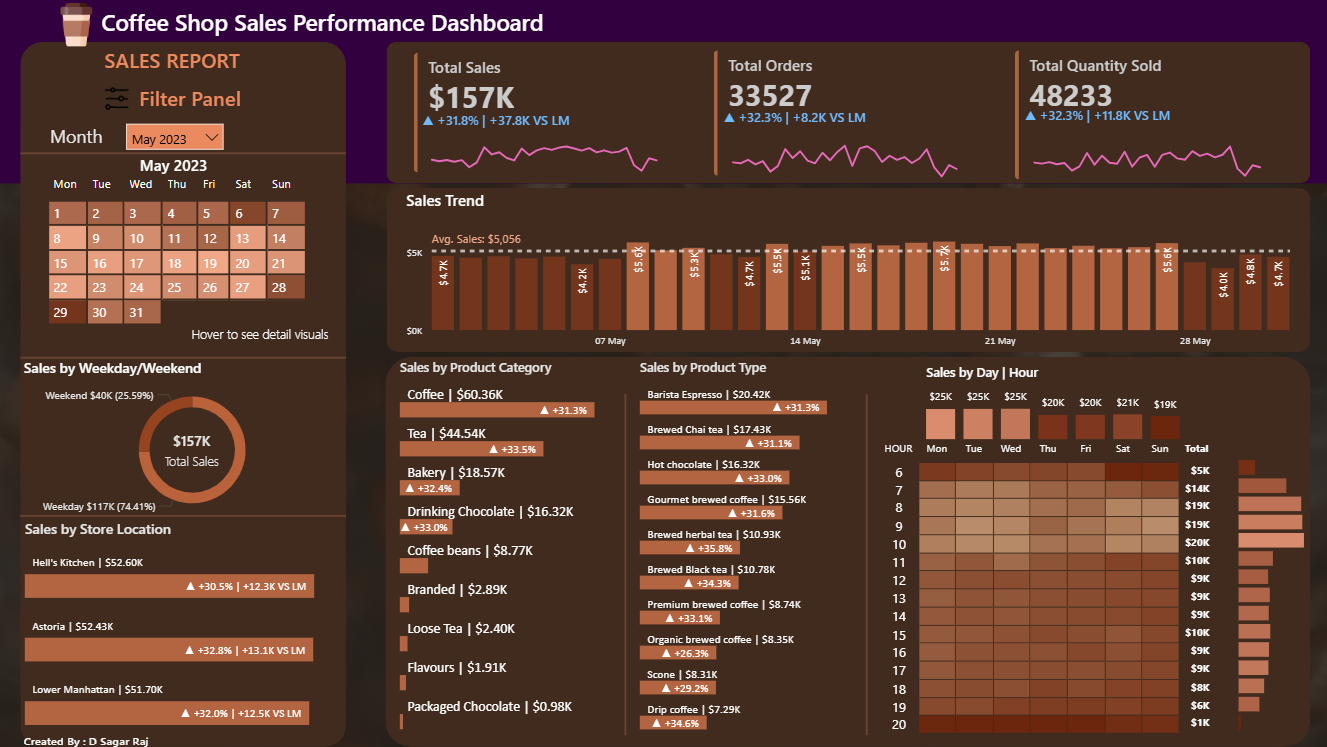

What the dashboard file says about the page in this screenshot:
{"tool":"powerbi","page":{"name":"Page 1","canvas":[1400,850],"ordinal":0},"visuals":[{"type":"shape","box":[0,27.5,1400,193.8],"z":0},{"type":"shape","box":[22.5,72.5,342.5,742.5],"z":1000},{"type":"shape","box":[407.5,72.5,971.2,148.8],"z":2000},{"type":"slicer","fields":{"Values":["Date table.Month Year"]},"box":[128.8,153.8,112.5,36.2],"z":3000},{"type":"group","id":"g1","title":"Group 1","box":[418.8,66.5,288.8,161.1],"z":4000},{"type":"cardVisual","fields":{"Data":["Transactions.Total qty. Sold"]},"box":[1051.5,63.8,288.5,170.7],"z":5000,"group":"g3"},{"type":"group","id":"g2","title":"Group 1","box":[734.7,64,289.6,166.1],"z":5000},{"type":"cardVisual","fields":{"Data":["Transactions.Total Orders"]},"box":[734.7,64,289.6,166.1],"z":5000,"group":"g2"},{"type":"cardVisual","fields":{"Data":["Transactions.Total Sales"]},"box":[418.8,66.5,288.8,160],"z":5000,"group":"g1"},{"type":"group","id":"g3","title":"Group 1","box":[1051.5,63.8,290.2,170.7],"z":6000},{"type":"lineChart","fields":{"Category":["Date table.Date.Variation.Date Hierarchy.Year","Date table.Date.Variation.Date Hierarchy.Quarter","Date table.Date.Variation.Date Hierarchy.Month","Date table.Date.Variation.Date Hierarchy.Day"],"Y":["Transactions.Total Quantity Sold"]},"box":[1074.3,139.9,267.4,82.6],"z":6000,"group":"g3"},{"type":"lineChart","fields":{"Category":["Date table.Date.Variation.Date Hierarchy.Year","Date table.Date.Variation.Date Hierarchy.Quarter","Date table.Date.Variation.Date Hierarchy.Month","Date table.Date.Variation.Date Hierarchy.Day"],"Y":["Transactions.Total Orders"]},"box":[757.2,141.5,265,78.8],"z":6000,"group":"g2"},{"type":"lineChart","fields":{"Y":["Transactions.Total Sales"],"Category":["Date table.Date.Variation.Date Hierarchy.Year","Date table.Date.Variation.Date Hierarchy.Quarter","Date table.Date.Variation.Date Hierarchy.Month","Date table.Date.Variation.Date Hierarchy.Day"]},"box":[440,144.9,266.3,82.6],"z":6000,"group":"g1"},{"type":"pivotTable","fields":{"Rows":["Date table.Week number"],"Columns":["Date table.Day name"],"Values":["Min(Date table.Day Number)"]},"box":[22.5,205,325,200],"z":7000},{"type":"cardVisual","fields":{"Data":["Min(Date table.Month Year)"]},"box":[116.2,180,136.2,41.2],"z":8000},{"type":"cardVisual","fields":{"Data":["Transactions.Foot Note"]},"box":[185,357.5,185,41.2],"z":9000},{"type":"shape","box":[22.5,182.5,342.5,13.8],"z":10000},{"type":"shape","box":[22.5,398.8,342.5,12.5],"z":11000},{"type":"donutChart","title":"Sales by Weekday/Weekend","fields":{"Category":["Date table.Weekday/Weekend"],"Y":["Transactions.Total Sales"]},"box":[21.4,404.5,364.6,173.8],"z":12000},{"type":"cardVisual","fields":{"Data":["Transactions.Total Sales"]},"box":[155.2,472.9,95.4,57],"z":13000},{"type":"shape","box":[22.5,565,342.5,11.2],"z":14000},{"type":"clusteredBarChart","title":"Sales by Store Location","fields":{"Category":["Transactions.store_location"],"Y":["Transactions.Placeholder","Transactions.Total Sales"]},"box":[22.5,576.2,342.5,225],"z":15000},{"type":"shape","box":[407.5,226.2,971.2,172.5],"z":16000},{"type":"columnChart","title":"Sales Trend ","fields":{"Category":["Transactions.transaction_date"],"Y":["Transactions.Total Sales"]},"box":[423.8,227.5,943.8,176.2],"z":17000},{"type":"shape","box":[406.2,403.8,972.5,411.2],"z":18000},{"type":"clusteredBarChart","title":"Sales by Product Category","fields":{"Y":["Transactions.Placeholder","Transactions.Total Sales"],"Category":["Transactions.product_category"]},"box":[416.2,405,251.2,396.2],"z":19000},{"type":"textbox","box":[91.2,30,273.8,48.8],"z":20000},{"type":"shape","box":[648.8,442.5,18.8,358.8],"z":21000},{"type":"clusteredBarChart","title":"Sales by Product Type","fields":{"Y":["Transactions.Placeholder","Transactions.Total Sales"],"Category":["Transactions.product_type"]},"box":[668.8,405,240,396.2],"z":22000},{"type":"shape","box":[903.8,442.5,16.2,358.8],"z":23000},{"type":"pivotTable","fields":{"Rows":["Transactions.HOUR"],"Columns":["Date table.Day name"],"Values":["Transactions.Total Sales"]},"box":[920,487.5,395,321.2],"z":24000},{"type":"barChart","fields":{"Category":["Transactions.HOUR"],"Y":["Transactions.Total Sales"]},"box":[1298.8,500,80,301.2],"z":25000},{"type":"columnChart","title":"Sales by Day | Hour","fields":{"Y":["Transactions.Total Sales"],"Category":["Date table.Day name"]},"box":[970,410,277.5,86.2],"z":26000},{"type":"textbox","box":[34.2,153.8,94,47],"z":26001},{"type":"textbox","box":[54.1,72.6,256.4,38.5],"z":26002},{"type":"image","box":[106.8,116.8,34.2,29.9],"z":26003},{"type":"textbox","box":[92.6,111.1,217.9,39.9],"z":26004},{"type":"image","box":[51.3,31.3,59.8,45.6],"z":26005}]}

Visuals, with their boxes on the page's 1400x850 design canvas (x1, y1, x2, y2). These are canvas units, not pixel positions in the 1327x747 screenshot, which may show the page scaled, cropped or inside an application window:
shape: (0,28,1400,221)
shape: (22,72,365,815)
shape: (408,72,1379,221)
slicer - Date table.Month Year: (129,154,241,190)
"Group 1" group: (419,66,708,228)
cardVisual - Transactions.Total qty. Sold: (1052,64,1340,234)
"Group 1" group: (735,64,1024,230)
cardVisual - Transactions.Total Orders: (735,64,1024,230)
cardVisual - Transactions.Total Sales: (419,66,708,226)
"Group 1" group: (1052,64,1342,234)
lineChart - Date table.Date.Variation.Date Hierarchy.Year x Date table.Date.Variation.Date Hierarchy.Quarter: (1074,140,1342,222)
lineChart - Date table.Date.Variation.Date Hierarchy.Year x Date table.Date.Variation.Date Hierarchy.Quarter: (757,142,1022,220)
lineChart - Transactions.Total Sales x Date table.Date.Variation.Date Hierarchy.Year: (440,145,706,228)
pivotTable - Date table.Week number x Date table.Day name: (22,205,348,405)
cardVisual - Min(Date table.Month Year): (116,180,252,221)
cardVisual - Transactions.Foot Note: (185,358,370,399)
shape: (22,182,365,196)
shape: (22,399,365,411)
"Sales by Weekday/Weekend" donutChart: (21,404,386,578)
cardVisual - Transactions.Total Sales: (155,473,251,530)
shape: (22,565,365,576)
"Sales by Store Location" clusteredBarChart: (22,576,365,801)
shape: (408,226,1379,399)
"Sales Trend " columnChart: (424,228,1368,404)
shape: (406,404,1379,815)
"Sales by Product Category" clusteredBarChart: (416,405,667,801)
textbox: (91,30,365,79)
shape: (649,442,668,801)
"Sales by Product Type" clusteredBarChart: (669,405,909,801)
shape: (904,442,920,801)
pivotTable - Transactions.HOUR x Date table.Day name: (920,488,1315,809)
barChart - Transactions.HOUR x Transactions.Total Sales: (1299,500,1379,801)
"Sales by Day | Hour" columnChart: (970,410,1248,496)
textbox: (34,154,128,201)
textbox: (54,73,310,111)
image: (107,117,141,147)
textbox: (93,111,310,151)
image: (51,31,111,77)
